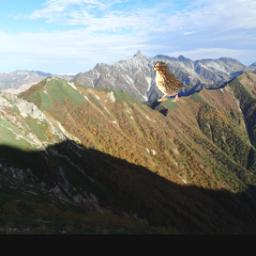Sparrow: (153, 62, 194, 103)
